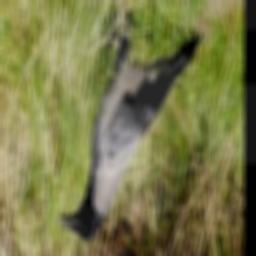Crow: (58, 12, 202, 240)
